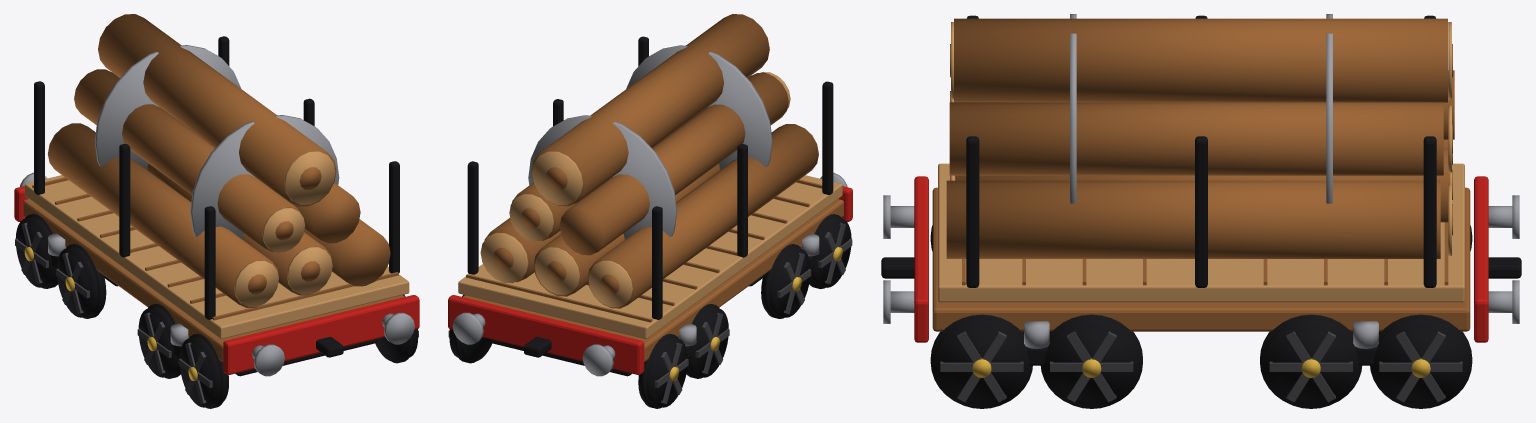
Rendered from troncos.glb.
3 renders of one model, left to right at view 1: azimuth 30°, elevation 25°; view 2: azimuth 150°, elevation 25°; view 3: azimuth 270°, elevation 25°, orthographic. The views are drawn at different scales.
Visible parts, largest first — view 1: p_chasis, p_tronco5, p_tronco0, p_tronco3, p_cadenas, p_tronco1, p_tronco2, p_tronco4; view 2: p_chasis, p_tronco5, p_tronco0, p_tronco3, p_cadenas, p_tronco1, p_tronco2, p_tronco4; view 3: p_chasis, p_tronco5, p_tronco2, p_tronco4, p_tronco1, p_cadenas.
Boxes of the visible parts, x1,y1,x2,y2 form: p_chasis: [14, 36, 419, 408]; p_tronco5: [98, 14, 336, 206]; p_tronco0: [48, 123, 279, 307]; p_tronco3: [74, 69, 305, 252]; p_cadenas: [94, 45, 339, 239]; p_tronco1: [147, 163, 332, 295]; p_tronco2: [304, 219, 390, 286]; p_tronco4: [290, 183, 360, 243]; p_chasis: [448, 36, 852, 408]; p_tronco5: [531, 14, 769, 206]; p_tronco0: [587, 124, 818, 308]; p_tronco3: [559, 72, 790, 255]; p_cadenas: [528, 45, 772, 239]; p_tronco1: [533, 163, 720, 296]; p_tronco2: [480, 218, 560, 283]; p_tronco4: [509, 182, 577, 240]; p_chasis: [881, 15, 1521, 408]; p_tronco5: [950, 18, 1452, 102]; p_tronco2: [946, 180, 1452, 258]; p_tronco4: [949, 102, 1452, 175]; p_tronco1: [950, 147, 1452, 222]; p_cadenas: [1070, 14, 1332, 203].
Size of the model in its own units: 1.81 by 1.95 by 3.5.
